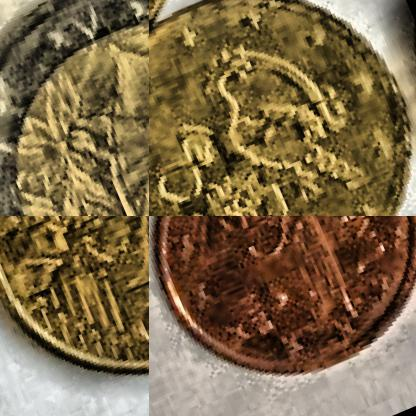coin: (149, 0, 415, 215), (149, 216, 415, 415), (0, 0, 148, 215), (0, 216, 148, 415)
